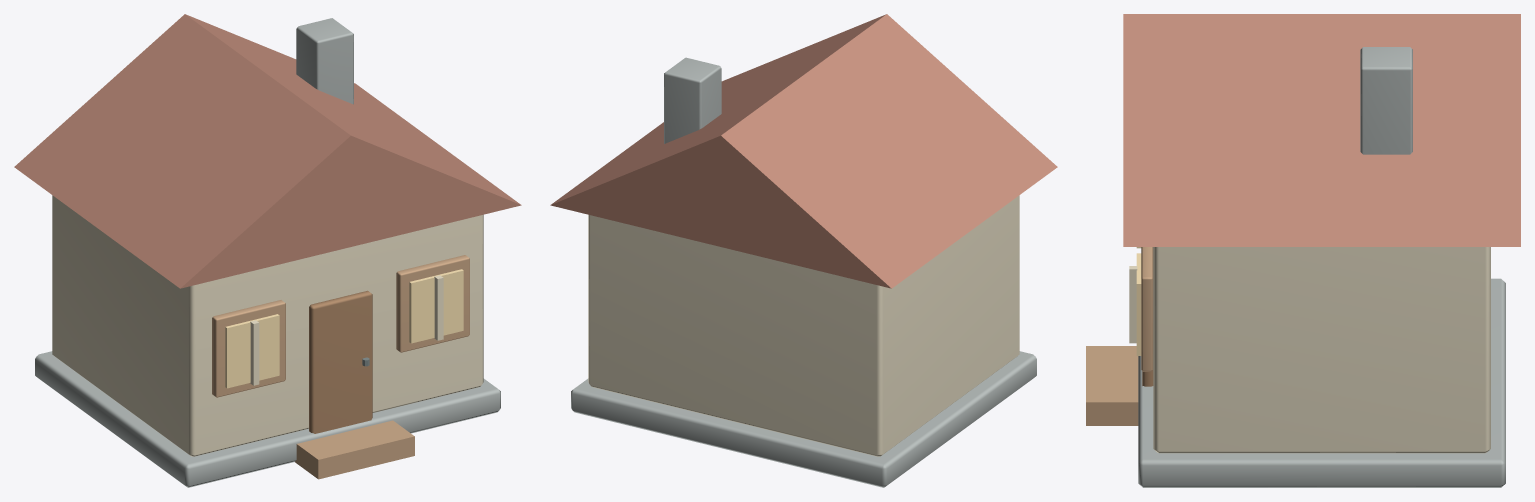
File: cottage.glb
The picture shows the model from 3 angles, left to right: view 1: azimuth 30°, elevation 25°; view 2: azimuth 150°, elevation 25°; view 3: azimuth 270°, elevation 25°; orthographic projection. The views are drawn at different scales.
Visible parts, largest first — view 1: Terracotta gable, Cream walls, Stone foundation, Cottage door, Porch step, Chimney, Warm window, Warm window.001, Window frame.001, Window frame, Window crossbar.001, Window crossbar; view 2: Terracotta gable, Cream walls, Stone foundation, Chimney; view 3: Terracotta gable, Cream walls, Stone foundation, Chimney, Porch step, Window frame.001, Window crossbar.001, Warm window.001.
Part boxes in pixels (x1,y1,x2,y2): Terracotta gable: (14, 14, 521, 288); Cream walls: (52, 195, 483, 456); Stone foundation: (35, 351, 500, 487); Cottage door: (309, 290, 372, 433); Porch step: (295, 420, 414, 479); Chimney: (296, 18, 353, 104); Warm window: (225, 314, 279, 388); Warm window.001: (409, 269, 463, 343); Window frame.001: (396, 255, 469, 352); Window frame: (212, 300, 285, 397); Window crossbar.001: (434, 275, 443, 340); Window crossbar: (250, 320, 259, 385); Terracotta gable: (550, 14, 1057, 288); Cream walls: (588, 195, 1019, 456); Stone foundation: (571, 351, 1036, 487); Chimney: (664, 57, 721, 143); Terracotta gable: (1123, 14, 1520, 246); Cream walls: (1153, 247, 1490, 453); Stone foundation: (1138, 278, 1505, 487); Chimney: (1360, 47, 1412, 154); Porch step: (1086, 346, 1138, 425); Window frame.001: (1141, 247, 1153, 371); Window crossbar.001: (1129, 266, 1137, 343); Warm window.001: (1136, 253, 1141, 355).
Size of the model in its own units: 4.75 by 4.33 by 4.37.
